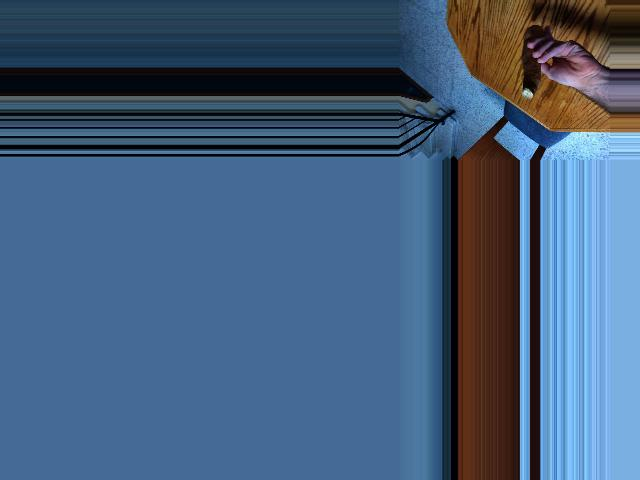sweet_potato: (523, 37, 538, 100)
